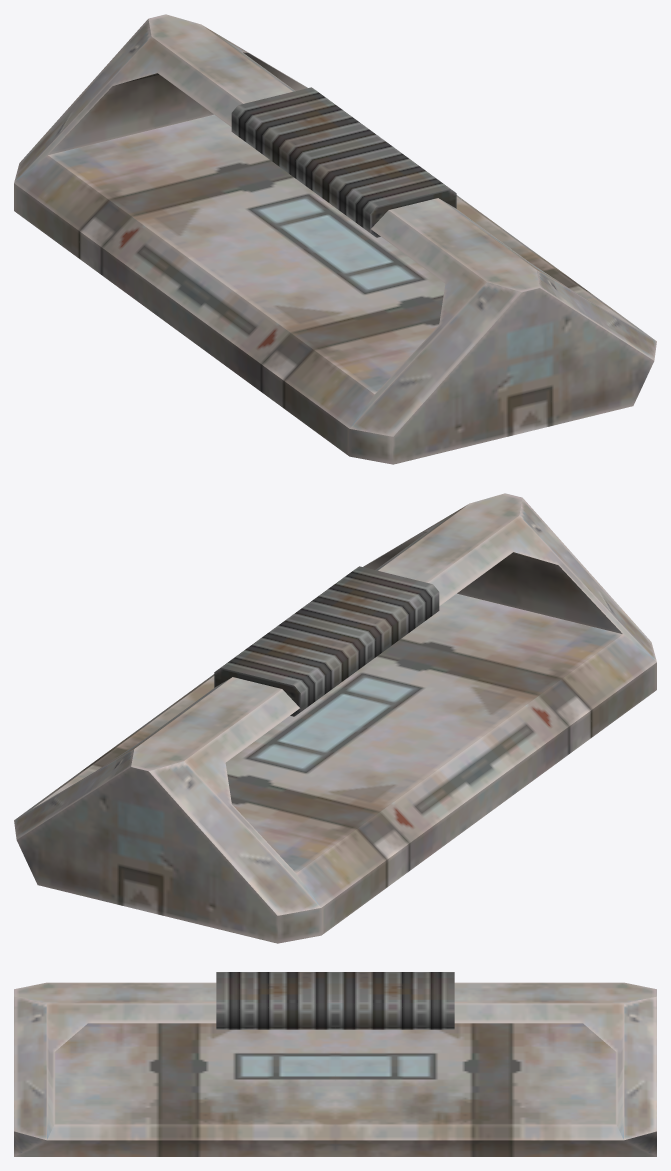
File: all_item_misc_toolbox_small_lip.glb
The picture shows the model from 3 angles, top to bottom: view 1: azimuth 30°, elevation 25°; view 2: azimuth 150°, elevation 25°; view 3: azimuth 270°, elevation 25°; orthographic projection. The views are drawn at different scales.
Parts seen in each view (by area): view 1: all_item_misc_toolbox_small_lip; view 2: all_item_misc_toolbox_small_lip; view 3: all_item_misc_toolbox_small_lip.
Boxes of the visible parts, x1,y1,x2,y2 form: all_item_misc_toolbox_small_lip: (14, 14, 656, 464); all_item_misc_toolbox_small_lip: (14, 493, 656, 943); all_item_misc_toolbox_small_lip: (14, 972, 656, 1156).
Bounding box in the file's own units: 0.0567 × 0.026 × 0.1195.
1 material, 1 textured.
